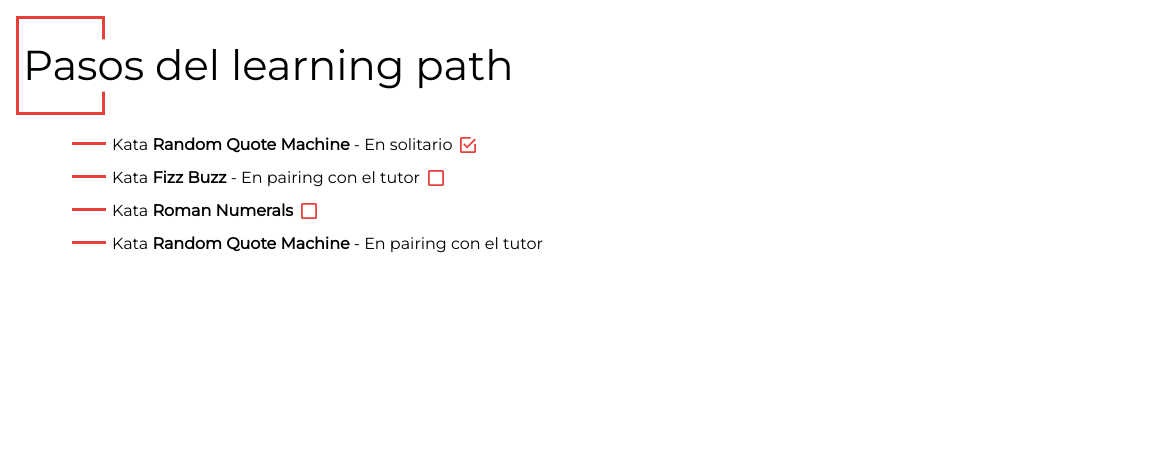
Scenario: listado de pasos › si una kata no tiene estado, informa al usuario
Click the button "Kata Random Quote Machine - En pairing con el tutor" at (323, 244), box [104,233,543,255]
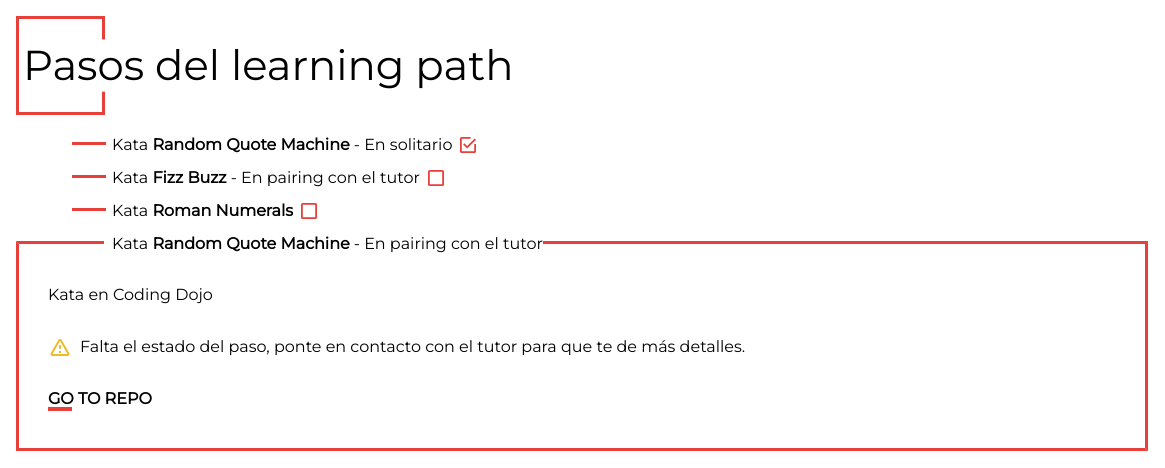
Expected: the text "Falta el estado del paso, ponte en contacto con el tutor para que te de más detalles" is shown, [80,337,745,356]
